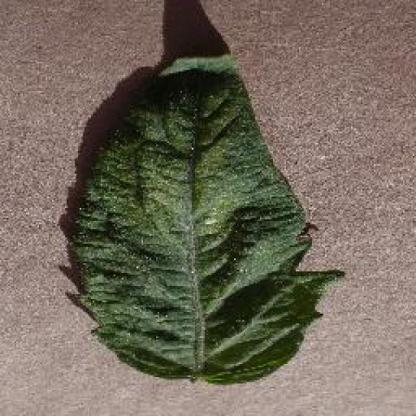Tomato_Spider_Mites: (77, 54, 342, 382)
